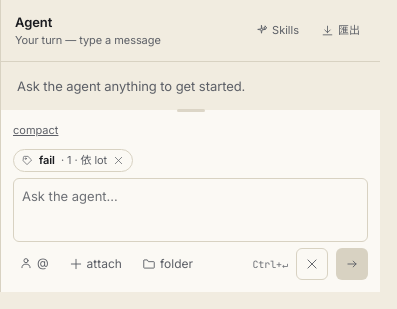
Test case: AgentPanel — markings go with a message (#847 P7) › a removed chip is not sent, and comes back for the next message
The width and height of the screenshot is (397, 309).
Click the button named "這次不送 fail": (119, 161) x1=113 y1=155 x2=124 y2=166
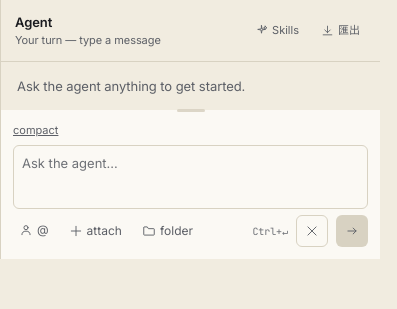
Now the element with test id "marking-chip" is gone
In the text box with placeholder "Ask the agent…": (190, 177) x1=13 y1=145 x2=368 y2=209, type "hi"
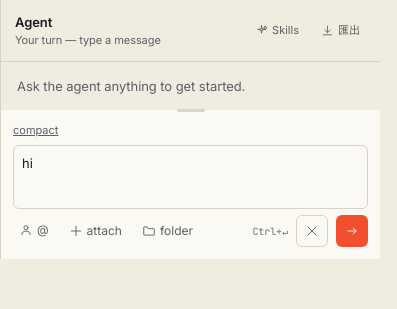
Press Enter in the text box with placeholder "Ask the agent…", box x1=13 y1=145 x2=368 y2=209
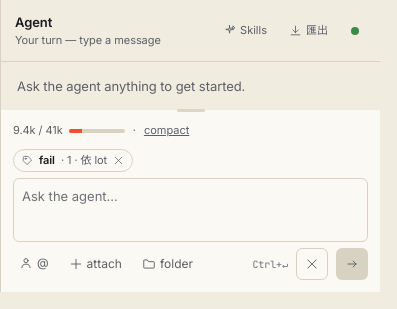
Now the element with test id "marking-chip" is shown, box x1=13 y1=149 x2=133 y2=172
